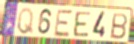4: (92, 10, 108, 40)
6: (37, 8, 52, 37)
B: (110, 12, 129, 41)
E: (53, 8, 74, 38), (73, 11, 92, 39)
Q: (16, 7, 35, 36)
